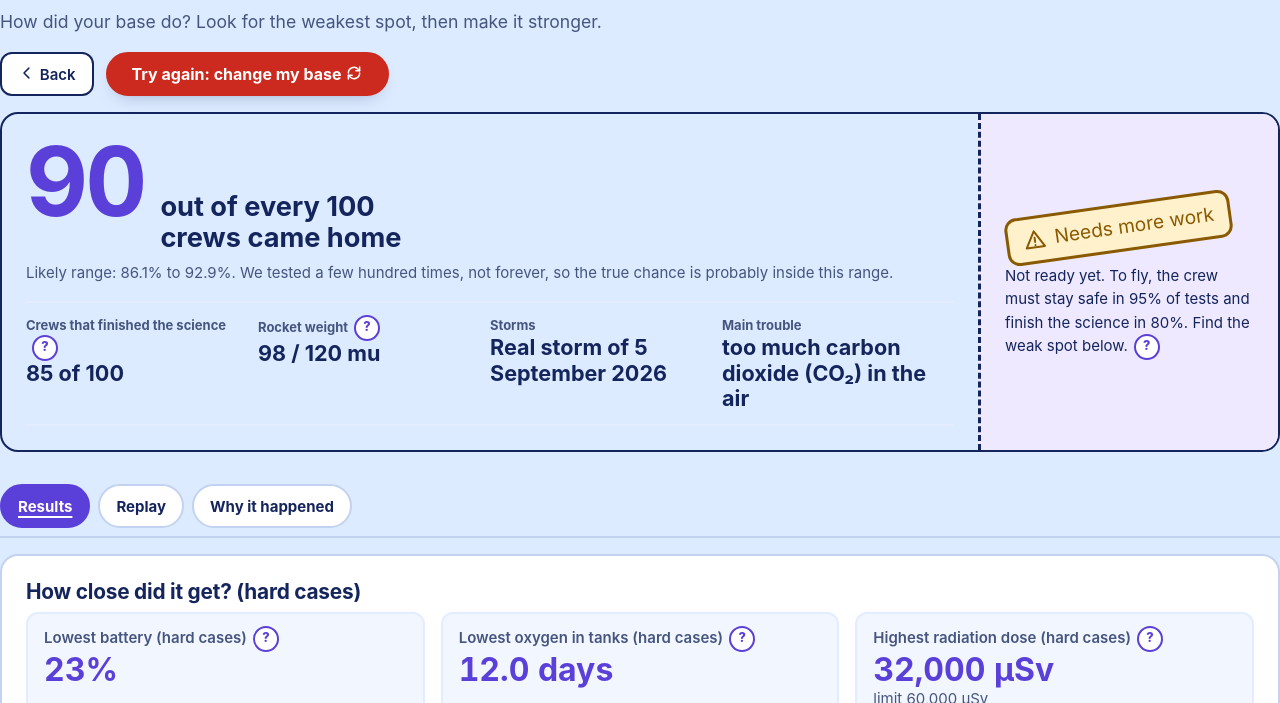
Test: ReviewScreen (L7 AC2-AC7) › AC4: the replay has play/pause and a scrubber, and shows the real storms
Click the tab "Replay" at (141, 506), box [98, 484, 184, 528]
(page scrolled)
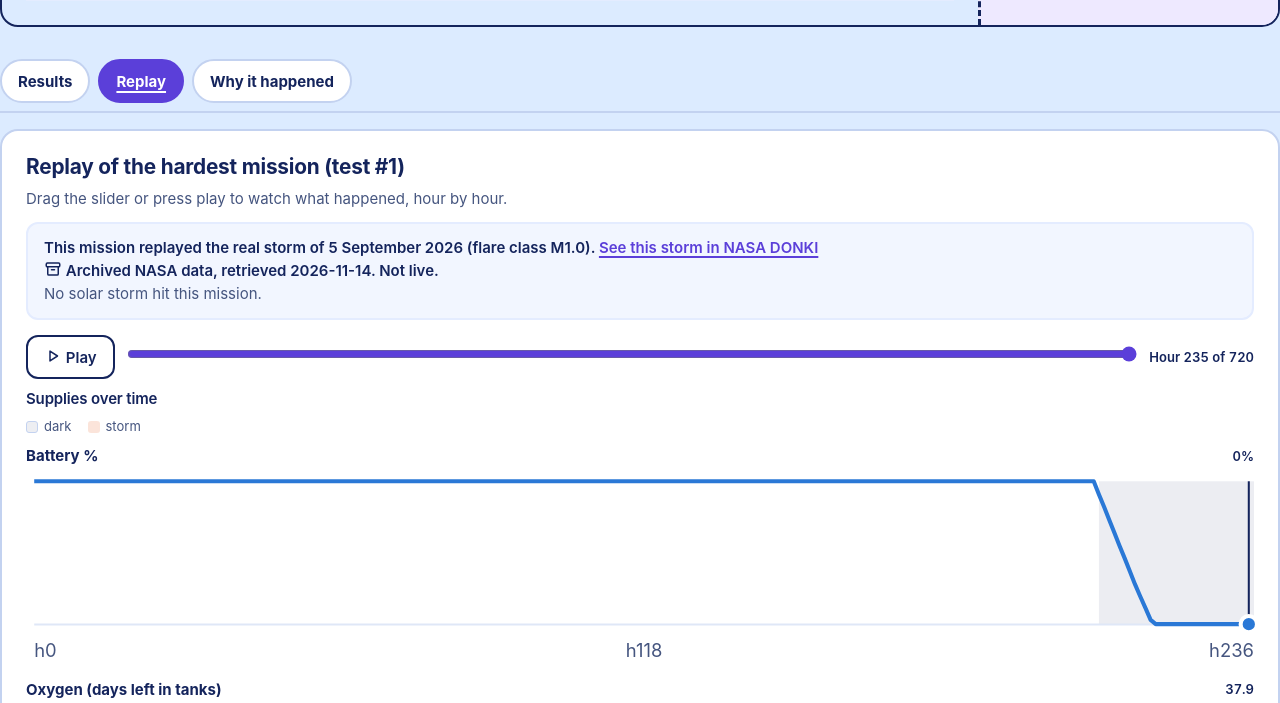
Set the slider named "Mission hour" to "10" at (177, 354), box [127, 332, 1137, 376]
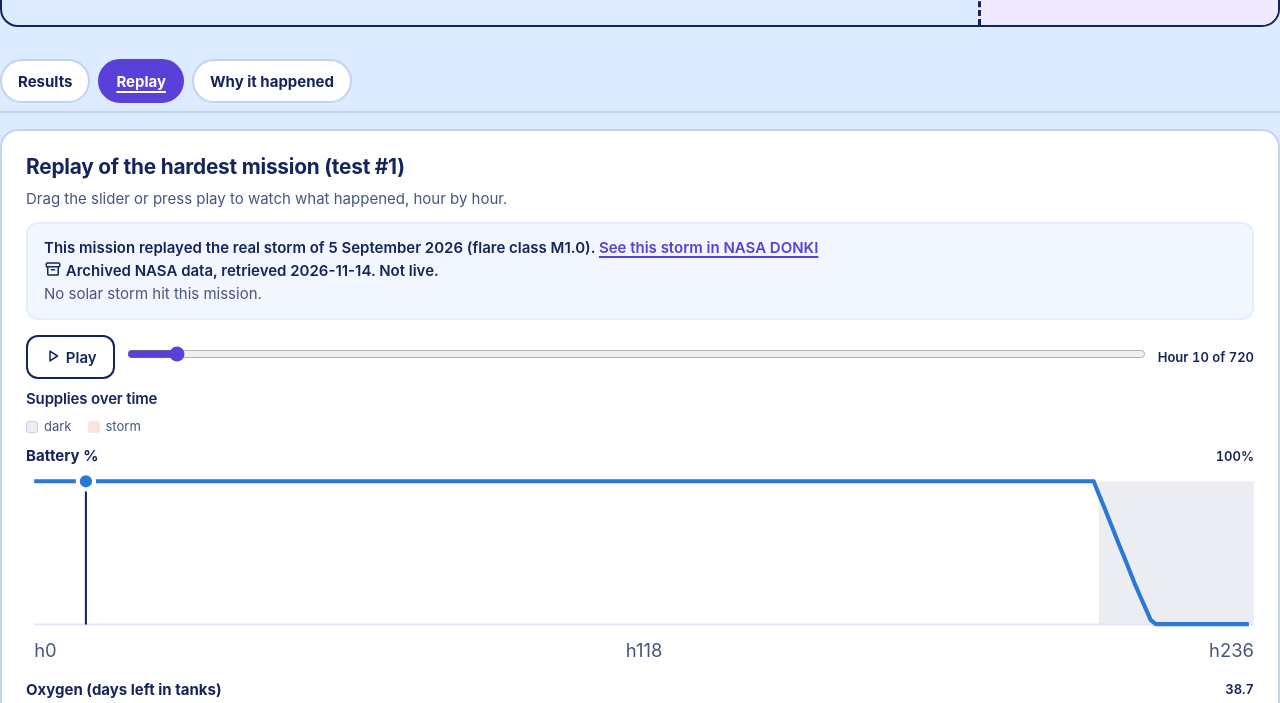
Click the button "Play" at (70, 357), box [26, 335, 115, 379]
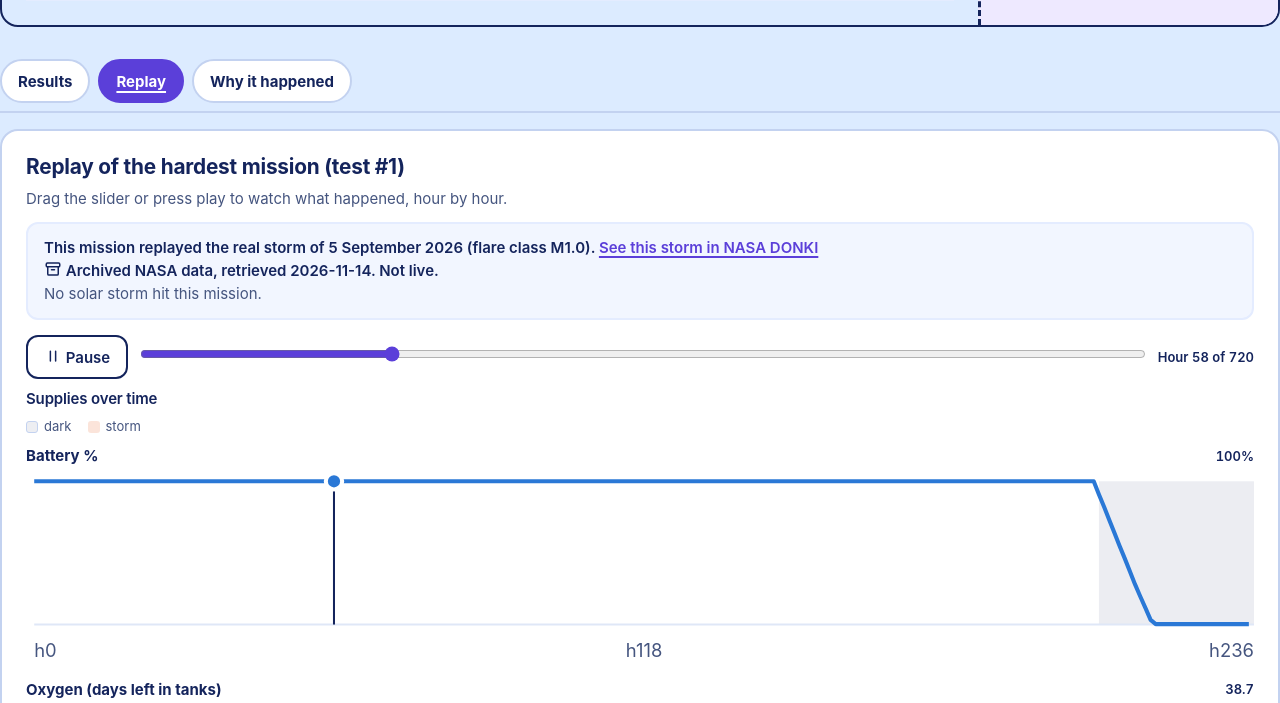
expect the button "Pause" is shown: met, box [26, 335, 128, 379]
